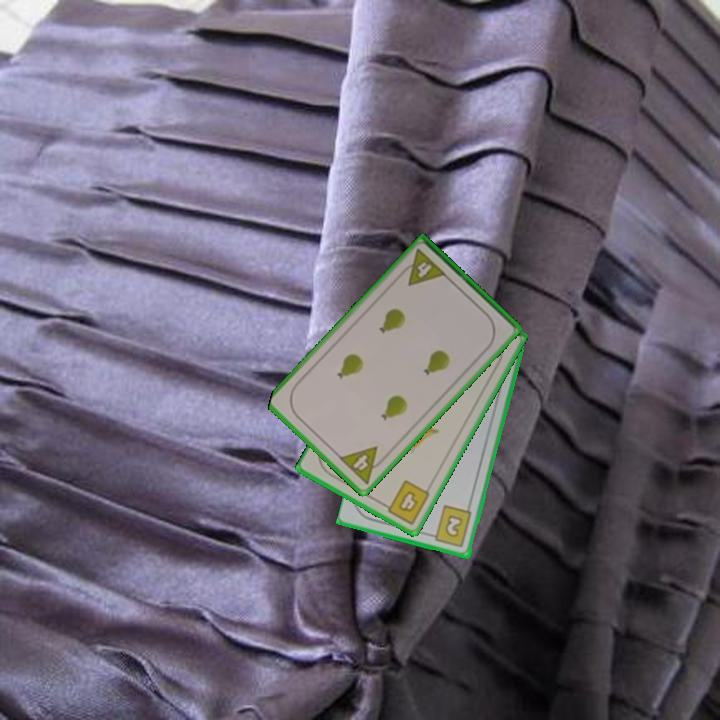2b: (426, 502, 475, 550)
4b: (378, 476, 433, 528)
4p: (335, 443, 390, 488), (396, 245, 449, 289)
